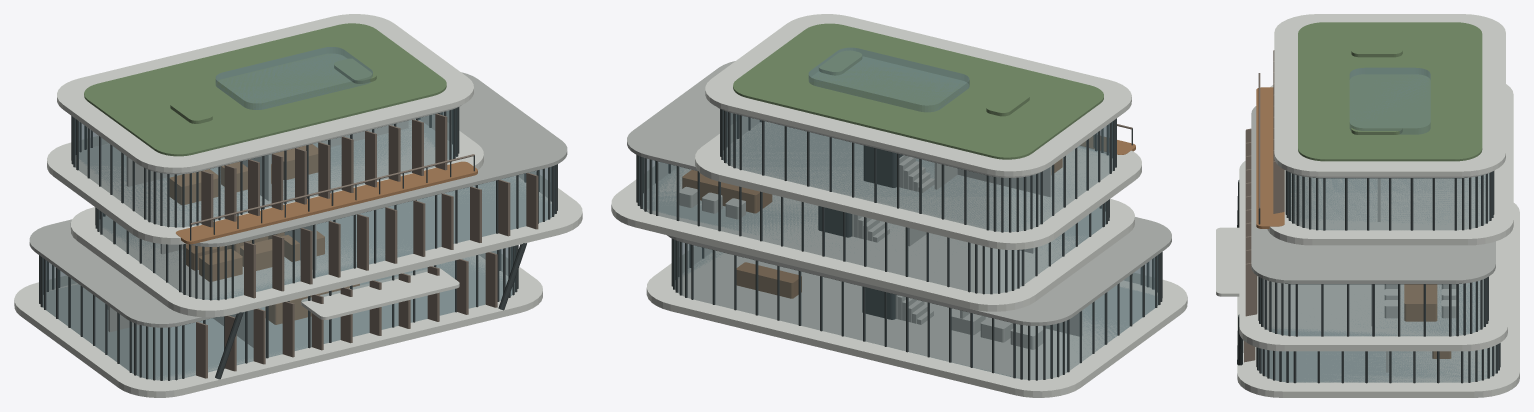
The model's file is clip-campus.glb.
3 views of the same model, side by side, from view 1: azimuth 30°, elevation 25°; view 2: azimuth 150°, elevation 25°; view 3: azimuth 270°, elevation 25° (orthographic). The views are drawn at different scales.
Parts seen in each view (by area): view 1: Floor 3, Floor 2, Floor 1; view 2: Floor 3, Floor 1, Floor 2; view 3: Floor 3, Floor 2, Floor 1.
Part boxes in pixels (x1,y1,x2,y2): Floor 3: (47,14,483,244); Floor 2: (70,72,582,317); Floor 1: (14,219,542,397); Floor 3: (695,14,1141,249); Floor 1: (646,217,1187,397); Floor 2: (611,61,1134,311); Floor 3: (1256,14,1513,245); Floor 2: (1239,106,1507,351); Floor 1: (1216,180,1519,397).
Size of the model in its own units: 9.38 by 4.23 by 5.52.
